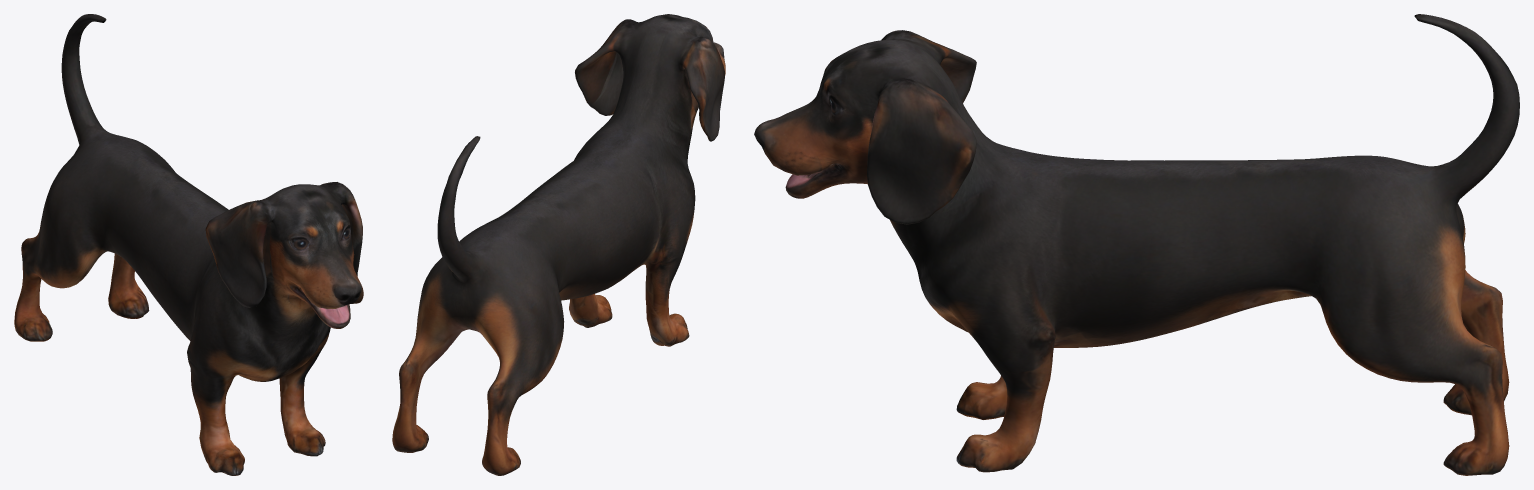
The model's file is Dachshund_1227180949_texture.fbx.
3 views of the same model, side by side, from view 1: azimuth 30°, elevation 25°; view 2: azimuth 150°, elevation 25°; view 3: azimuth 270°, elevation 25° (orthographic). The views are drawn at different scales.
Visible parts, largest first — view 1: Mesh1_Mesh1.123; view 2: Mesh1_Mesh1.123; view 3: Mesh1_Mesh1.123.
Part boxes in pixels (left/top/right/bottom): Mesh1_Mesh1.123: left=14, top=14, right=363, bottom=475; Mesh1_Mesh1.123: left=392, top=14, right=725, bottom=475; Mesh1_Mesh1.123: left=754, top=14, right=1519, bottom=475.
Size of the model in its own units: 10.72 by 24.55 by 40.
1 material, 1 textured.
